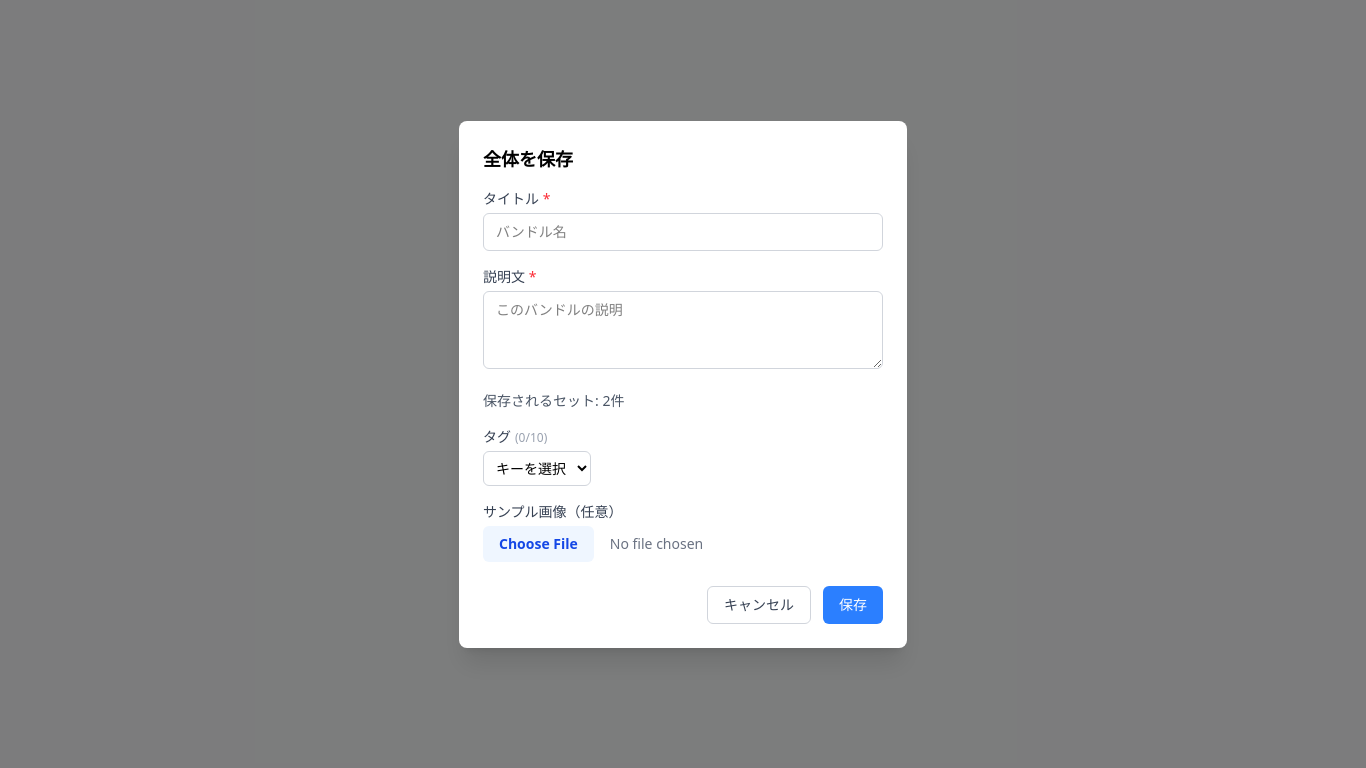
BundleSaveDialog › 説明文なしで保存するとエラーが表示される
The image size is (1366, 768).
Step 1. Type "テスト" into the field labelled "タイトル *" → x=683, y=232, box [483,212,883,250]
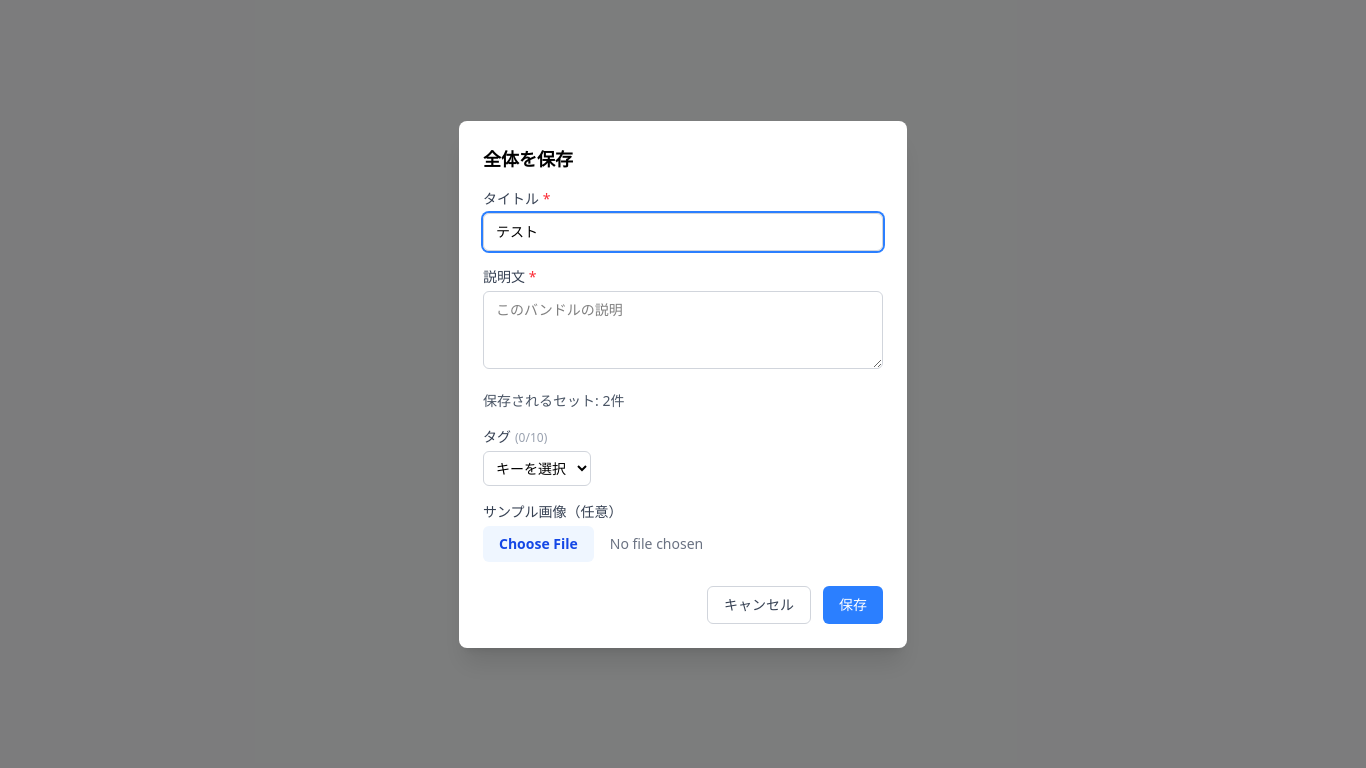
Step 2. Click the button "保存" → x=853, y=604, box [823,586,883,624]
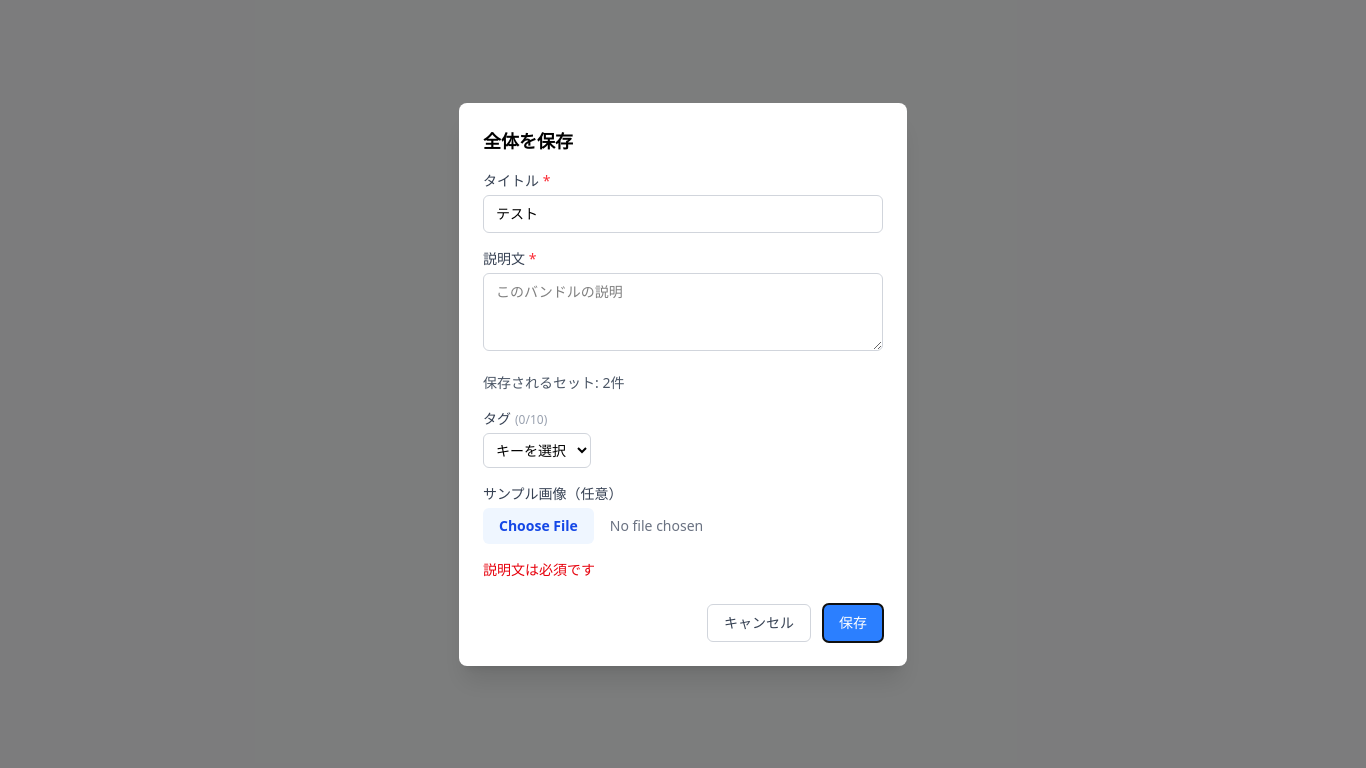
expect the text with test id "bundle-save-error" reads "説明文は必須です": met, box [483,560,595,578]
